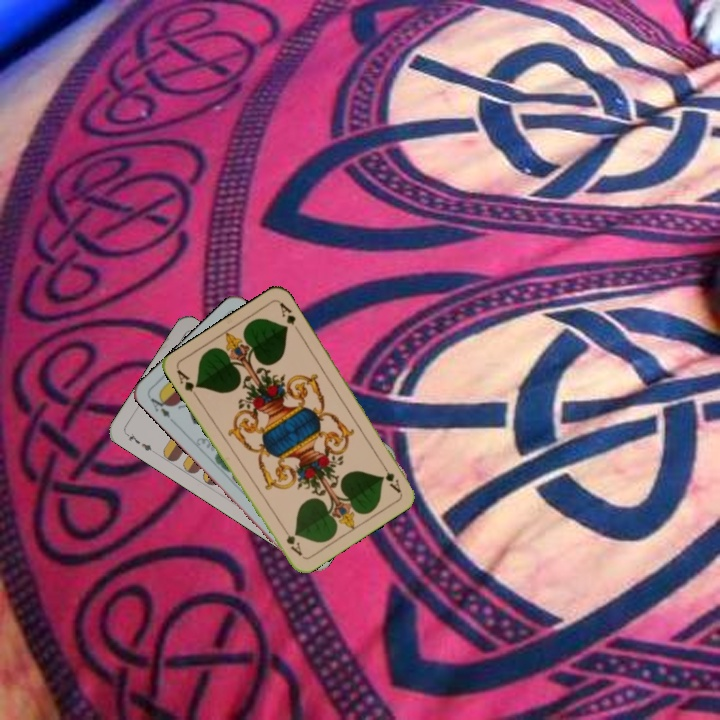E7: (122, 429, 158, 456)
EA: (145, 391, 177, 425)
GA: (172, 366, 201, 402), (377, 458, 403, 496)
